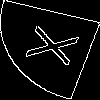X: (25, 25, 91, 70)
